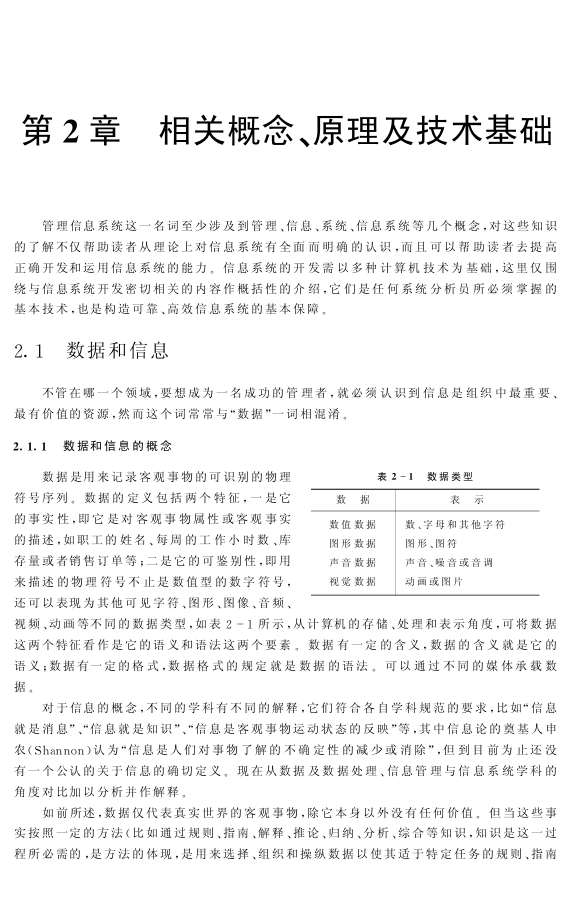table: (310, 488, 540, 596)
